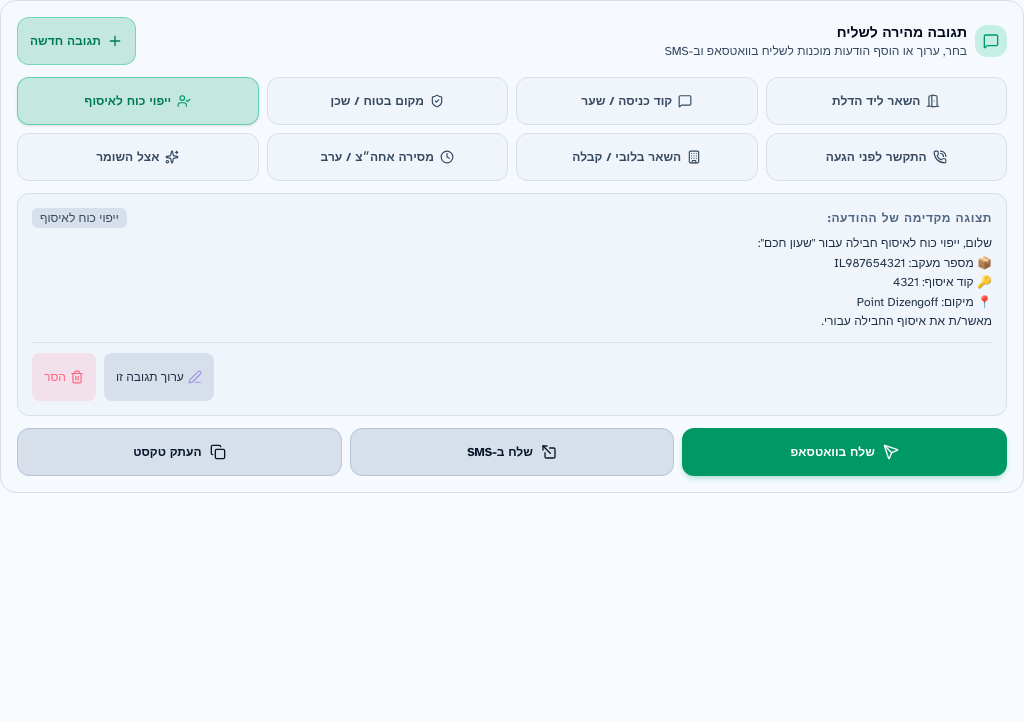
Scenario: CourierActionHub › allows editing an existing active template
Click "ערוך תגובה זו"
Step 1. Click the button "ערוך תגובה זו" → coordinates (159, 376), box [104, 352, 214, 400]
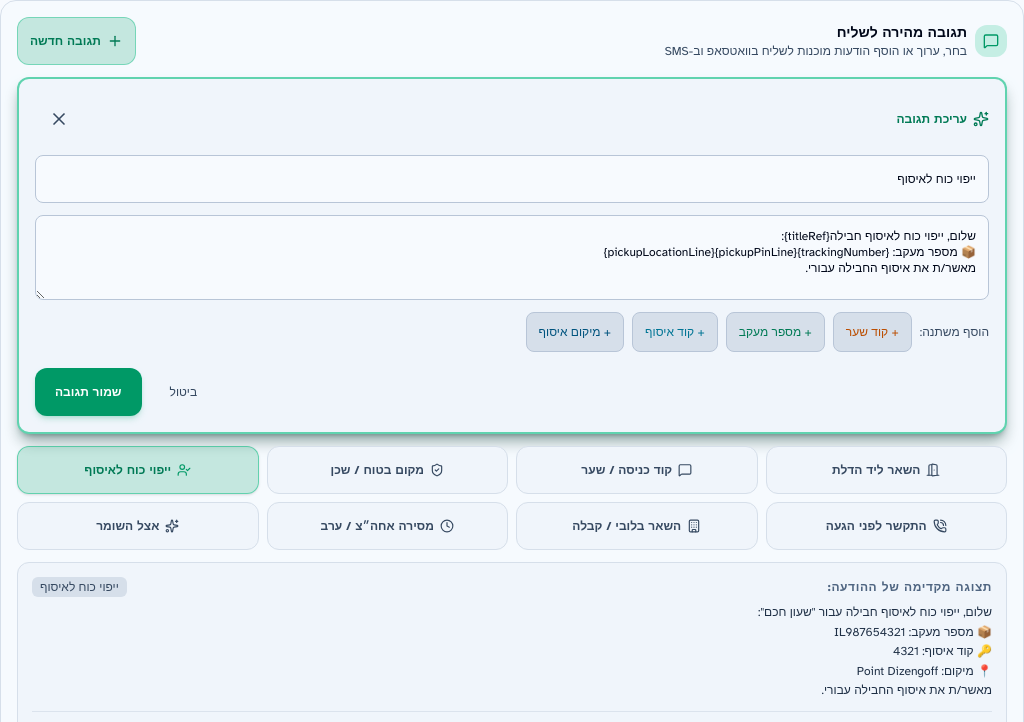
Expected: the field with placeholder "שם התגובה (למשל: השאר במרפסת, במשרד...)" is shown
Step 2. Replace the text in the field with placeholder "שם התגובה (למשל: השאר במרפסת, במשרד...)" with "השאר אצל דני" → coordinates (512, 179), box [35, 155, 989, 203]
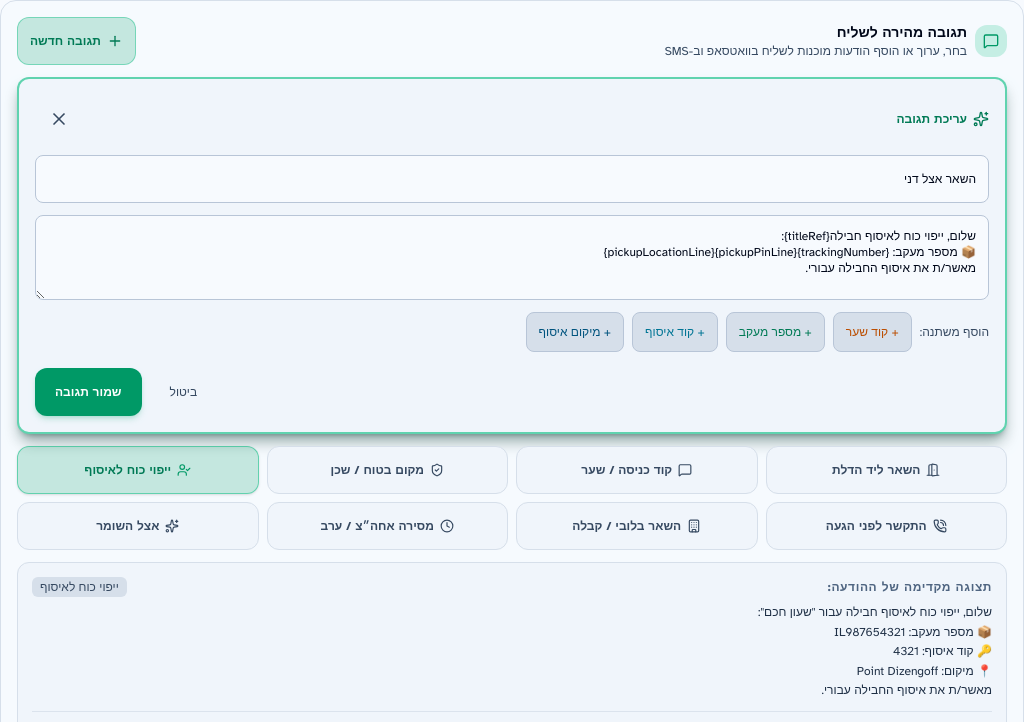
Step 3. Click the button "שמור תגובה" → coordinates (88, 392), box [35, 368, 142, 416]
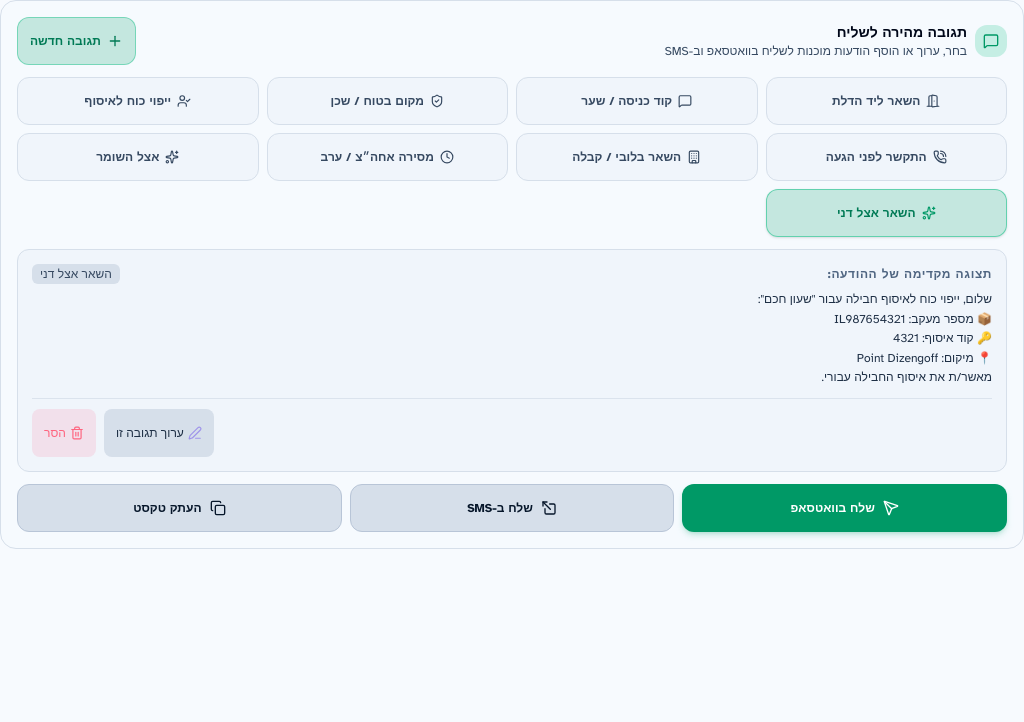
Expected: the 1st text "השאר אצל דני" is shown, [837, 205, 916, 221]
